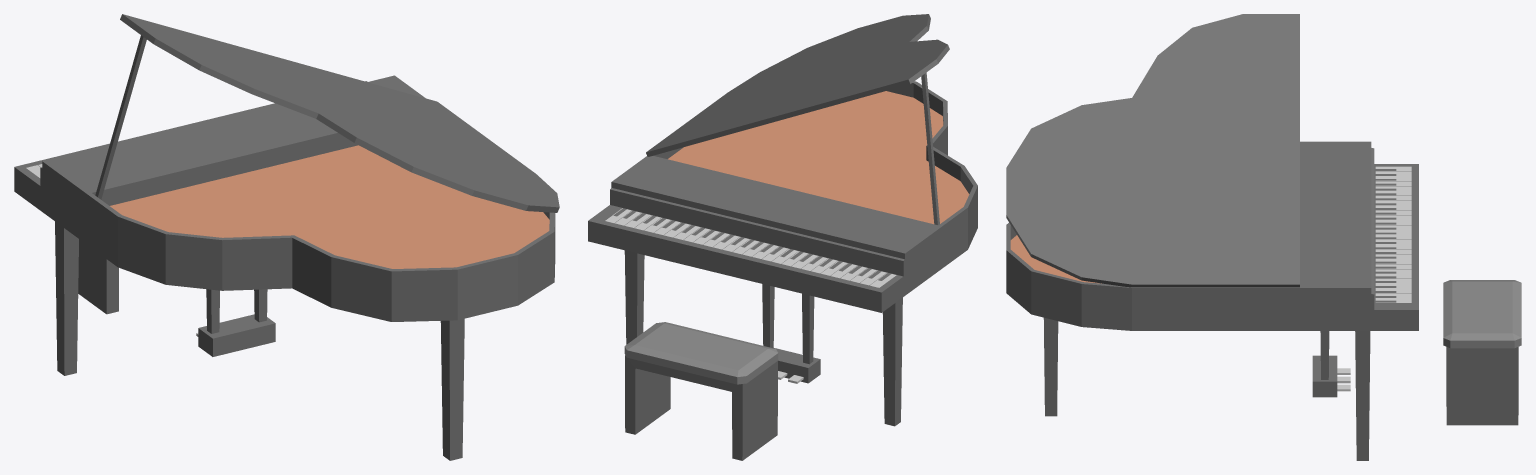
File: Piano.glb
3 views of the same model, side by side, from view 1: azimuth 30°, elevation 25°; view 2: azimuth 150°, elevation 25°; view 3: azimuth 270°, elevation 25° (orthographic). The views are drawn at different scales.
Parts seen in each view (by area): view 1: New_Game_Object_mat0_0.048; view 2: New_Game_Object_mat0_0.048; view 3: New_Game_Object_mat0_0.048.
Boxes of the visible parts, x1=… form: New_Game_Object_mat0_0.048: x1=14, y1=14, x2=559, y2=460; New_Game_Object_mat0_0.048: x1=588, y1=14, x2=977, y2=460; New_Game_Object_mat0_0.048: x1=1006, y1=14, x2=1521, y2=460.
Bounding box in the file's own units: 1.4 × 1.45 × 2.09.
